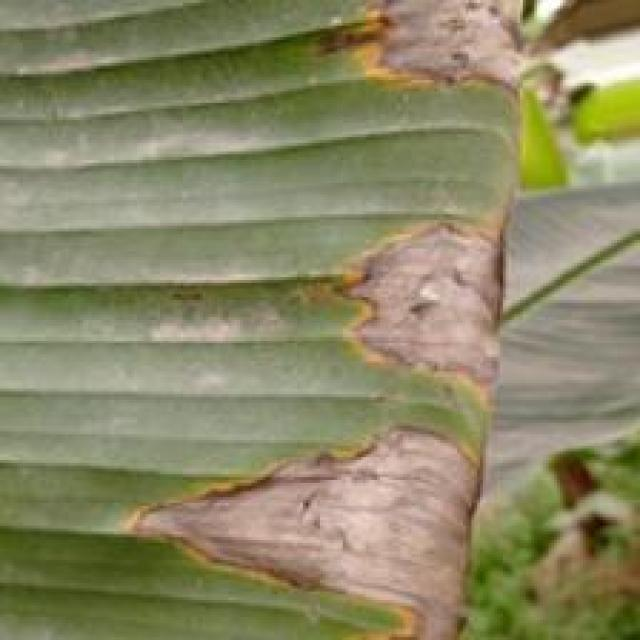Bacterial_spot: (118, 414, 516, 640), (314, 214, 527, 398), (319, 0, 541, 117)
